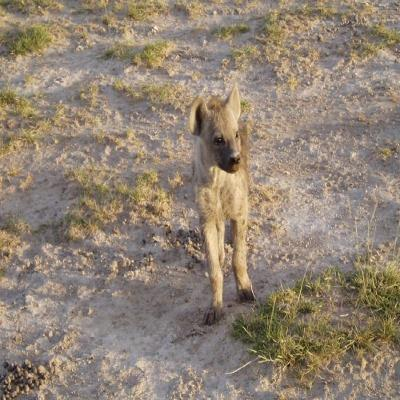hyenas: (157, 85, 311, 336)
